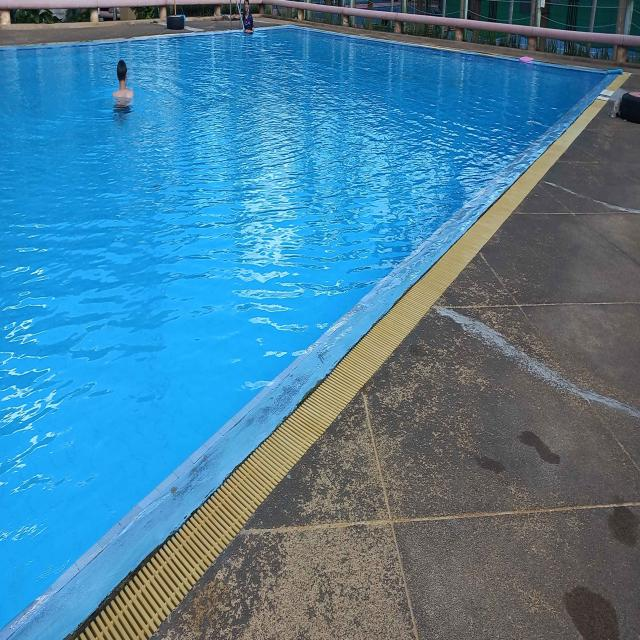Swimming: (108, 37, 137, 128)
